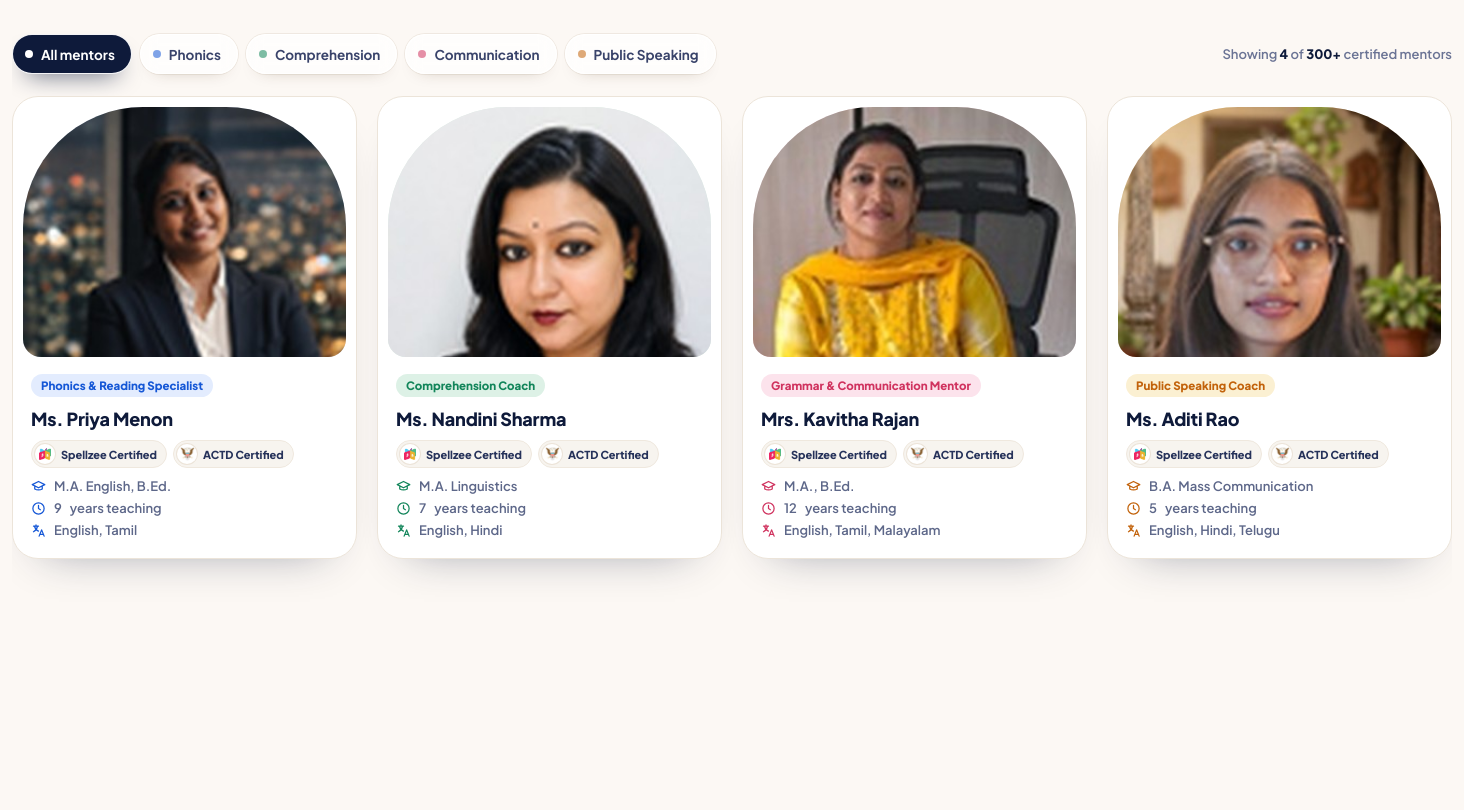
Scenario: MentorBrowser › filters to one programme's mentors and updates the count
The image size is (1464, 810).
Click the tab "Phonics" at (189, 54), box [140,34,238,74]
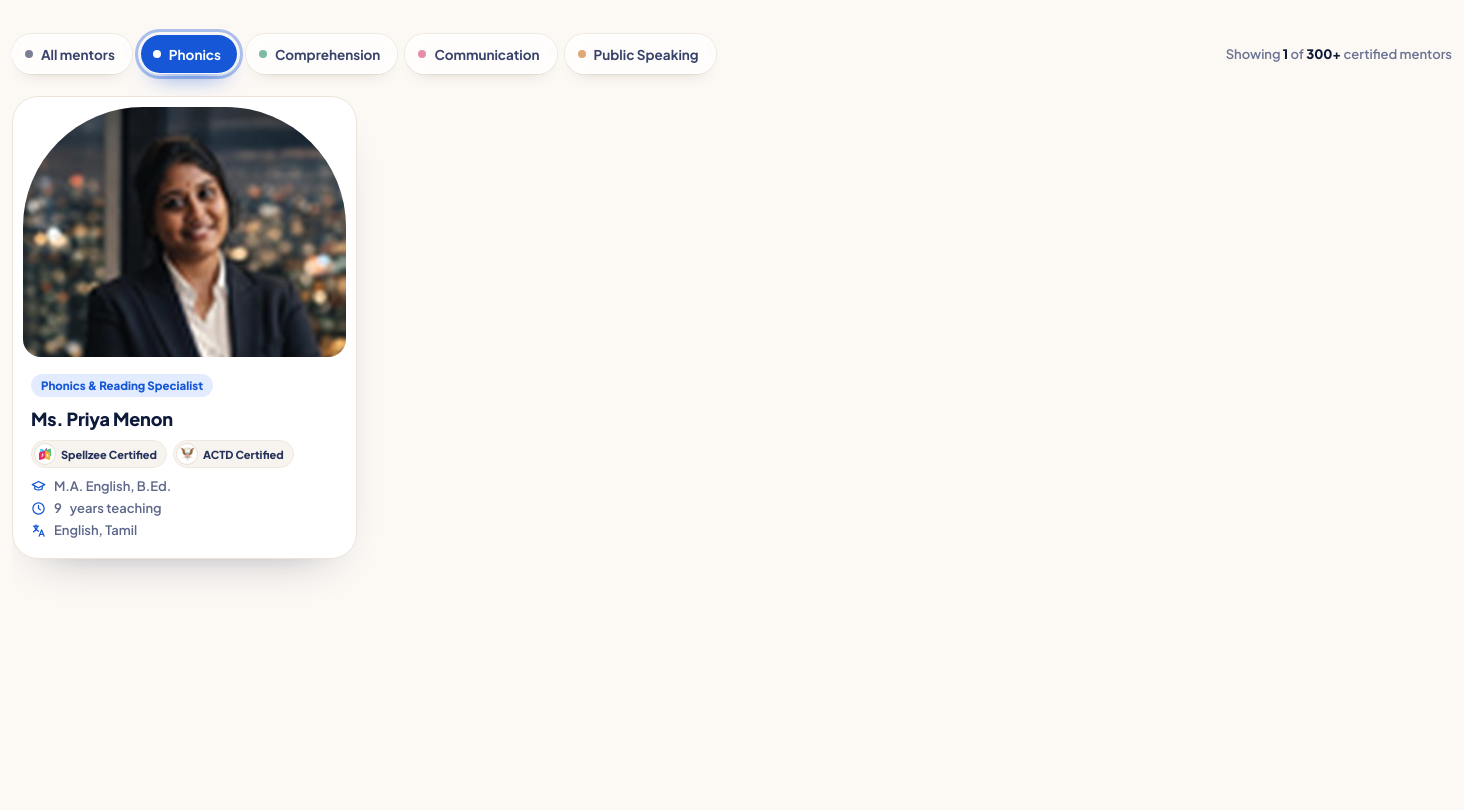
Check: the heading "Ms. Priya Menon" is shown, box [31,407,173,430]
Check: the text "1" is shown, box [1283,46,1288,62]
